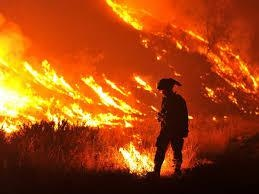fire: (102, 1, 148, 32), (118, 138, 156, 174)
